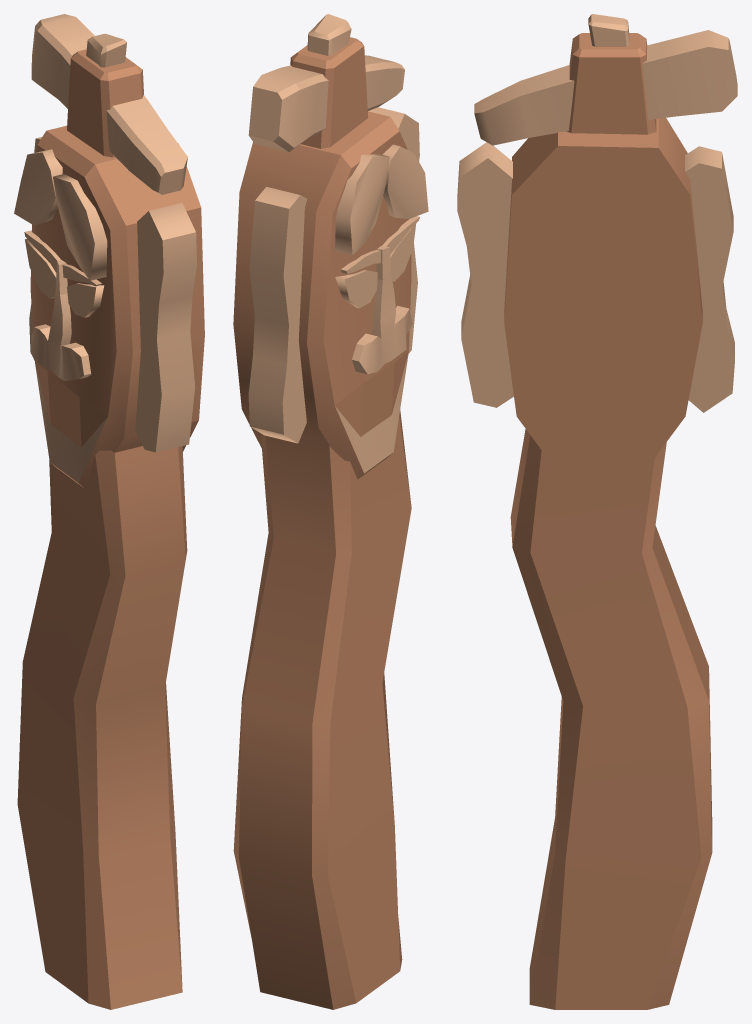
The model's file is jangseung04.fbx.
3 views of the same model, side by side, from view 1: azimuth 30°, elevation 25°; view 2: azimuth 150°, elevation 25°; view 3: azimuth 270°, elevation 25° (orthographic). The views are drawn at different scales.
Visible parts, largest first — view 1: Jangseung04; view 2: Jangseung04; view 3: Jangseung04.
Boxes of the visible parts, x1,y1,x2,y2 form: Jangseung04: (14,14,204,1009); Jangseung04: (233,14,428,1009); Jangseung04: (457,14,737,1009).
Bounding box in the file's own units: 8.76 × 19.13 × 73.01.
